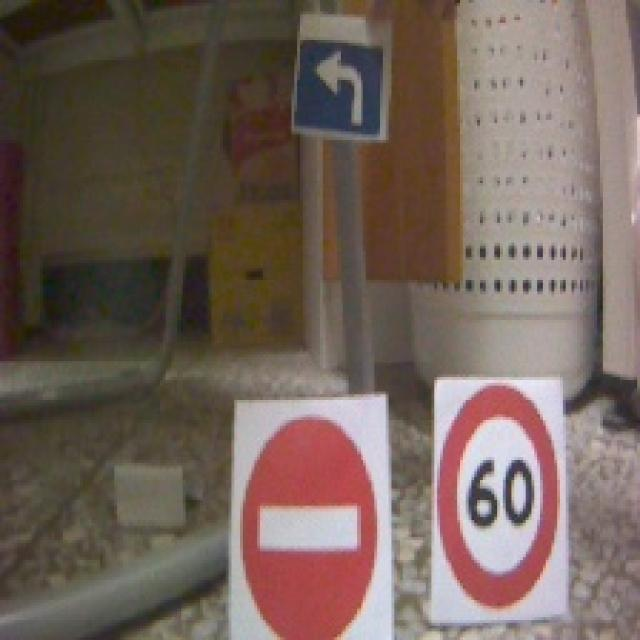DoNotEnterSign: (237, 413, 376, 640)
